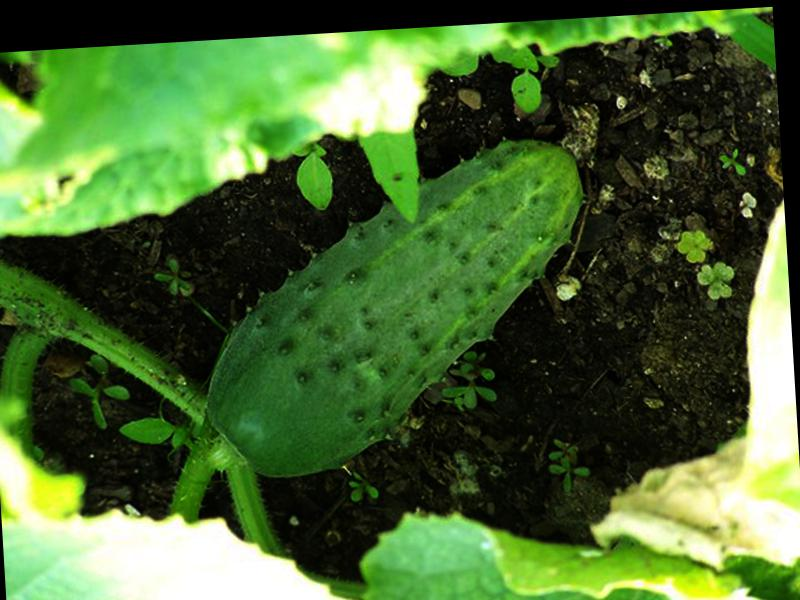Cucumber: (189, 136, 598, 483)
